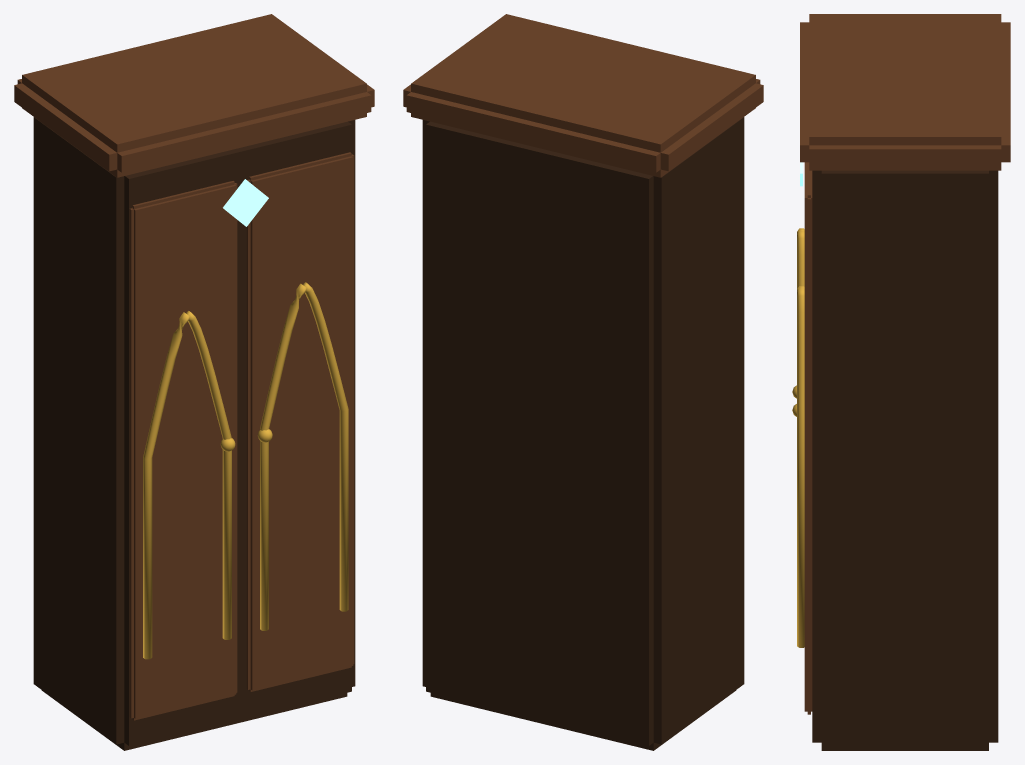
File: elven-wardrobe.glb
3 views of the same model, side by side, from view 1: azimuth 30°, elevation 25°; view 2: azimuth 150°, elevation 25°; view 3: azimuth 270°, elevation 25° (orthographic).
Visible parts, largest first — view 1: Model Mesh; view 2: Model Mesh; view 3: Model Mesh.
Part boxes in pixels (box(x1,y1,x2,y2)): Model Mesh: box(14, 14, 374, 750); Model Mesh: box(403, 14, 763, 750); Model Mesh: box(792, 14, 1010, 750).
Bounding box in the file's own units: 1 × 2.21 × 0.705.
